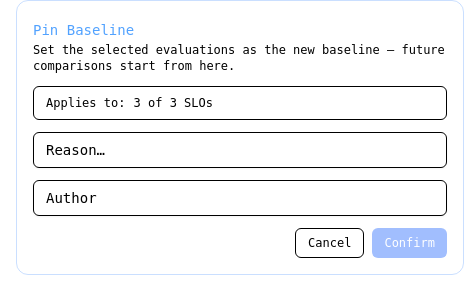
it: BaselineForm (multi-SLO) › an id skipped by the backend (not_found) is reported as failed
The image size is (464, 292).
Type "release" into the field with placeholder "Reason…" at coordinates (240, 150), box [33,132,447,168]
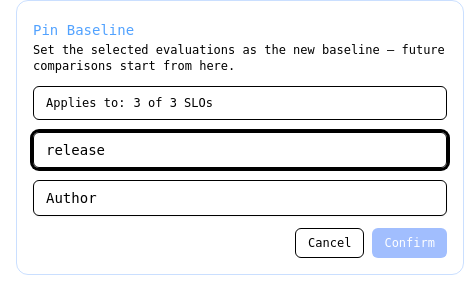
Type "domik" into the field with placeholder "Author" at coordinates (240, 198), box [33,180,447,216]
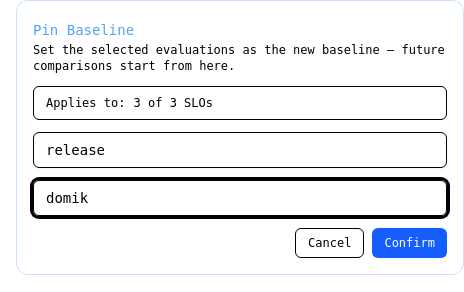
Click the button "Confirm" at coordinates (410, 243), box [372,228,447,258]
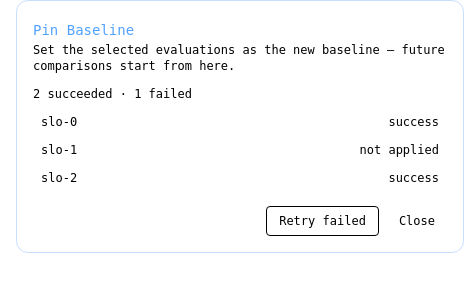
Check: the text "2 succeeded · 1 failed" is shown, box [33,87,192,101]
